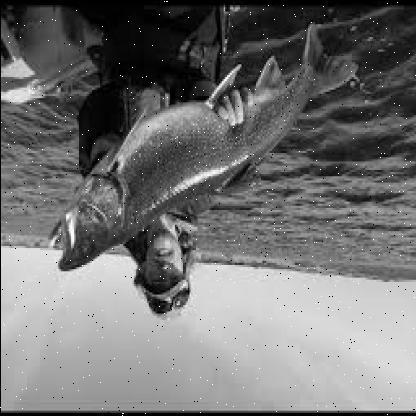fish: (50, 20, 362, 272)
